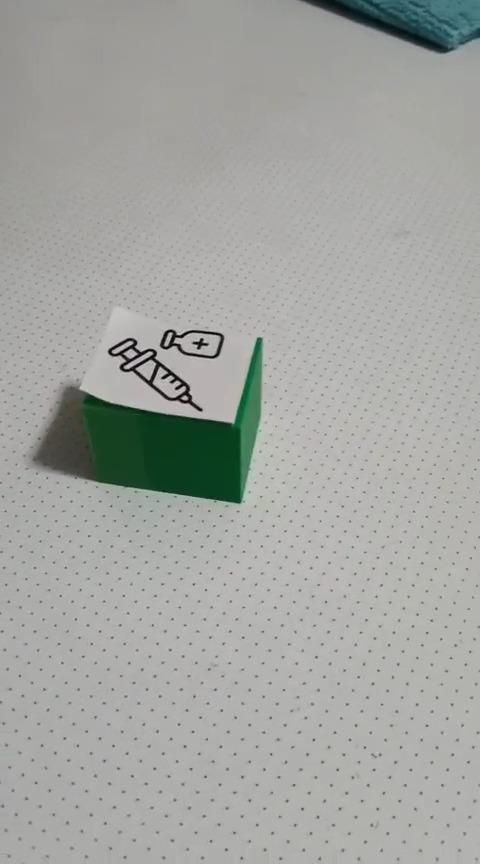antiseptic cream: (76, 304, 264, 504)
